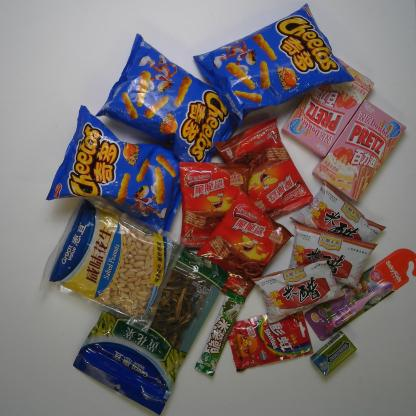Candy: (222, 306, 316, 374)
Chocolate: (193, 284, 248, 378)
Dessert: (197, 187, 300, 304), (212, 113, 314, 226), (312, 96, 408, 201), (280, 54, 376, 159), (175, 156, 254, 254)
Dried Food: (70, 228, 228, 416)
Dried Fruit: (35, 190, 187, 330)
Gum: (309, 328, 360, 379)
Personal Hygiene: (304, 247, 416, 342)
Puffed Food: (93, 31, 250, 182), (192, 2, 356, 129), (42, 104, 192, 237)
Seasoner: (290, 177, 386, 260), (284, 218, 378, 296), (247, 258, 348, 326)
